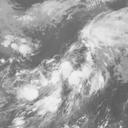cyclone: (32, 37, 108, 98)
